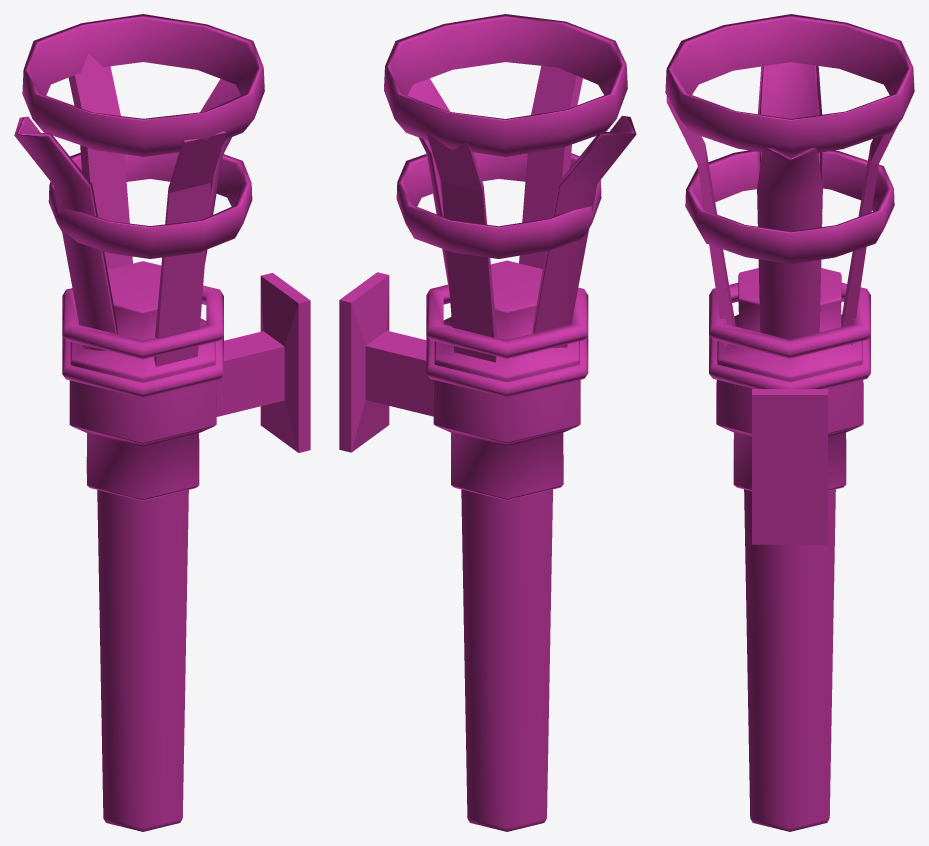
Rendered from Torch_01_Lod0.fbx.
3 views of the same model, side by side, from view 1: azimuth 30°, elevation 25°; view 2: azimuth 150°, elevation 25°; view 3: azimuth 270°, elevation 25° (orthographic).
Parts seen in each view (by area): view 1: Torch_01_Lod0; view 2: Torch_01_Lod0; view 3: Torch_01_Lod0.
Boxes of the visible parts, <box> form: Torch_01_Lod0: <box>14,14,310,831</box>; Torch_01_Lod0: <box>339,14,636,831</box>; Torch_01_Lod0: <box>665,14,914,831</box>.
Size of the model in its own units: 28.48 by 73.08 by 22.11.
